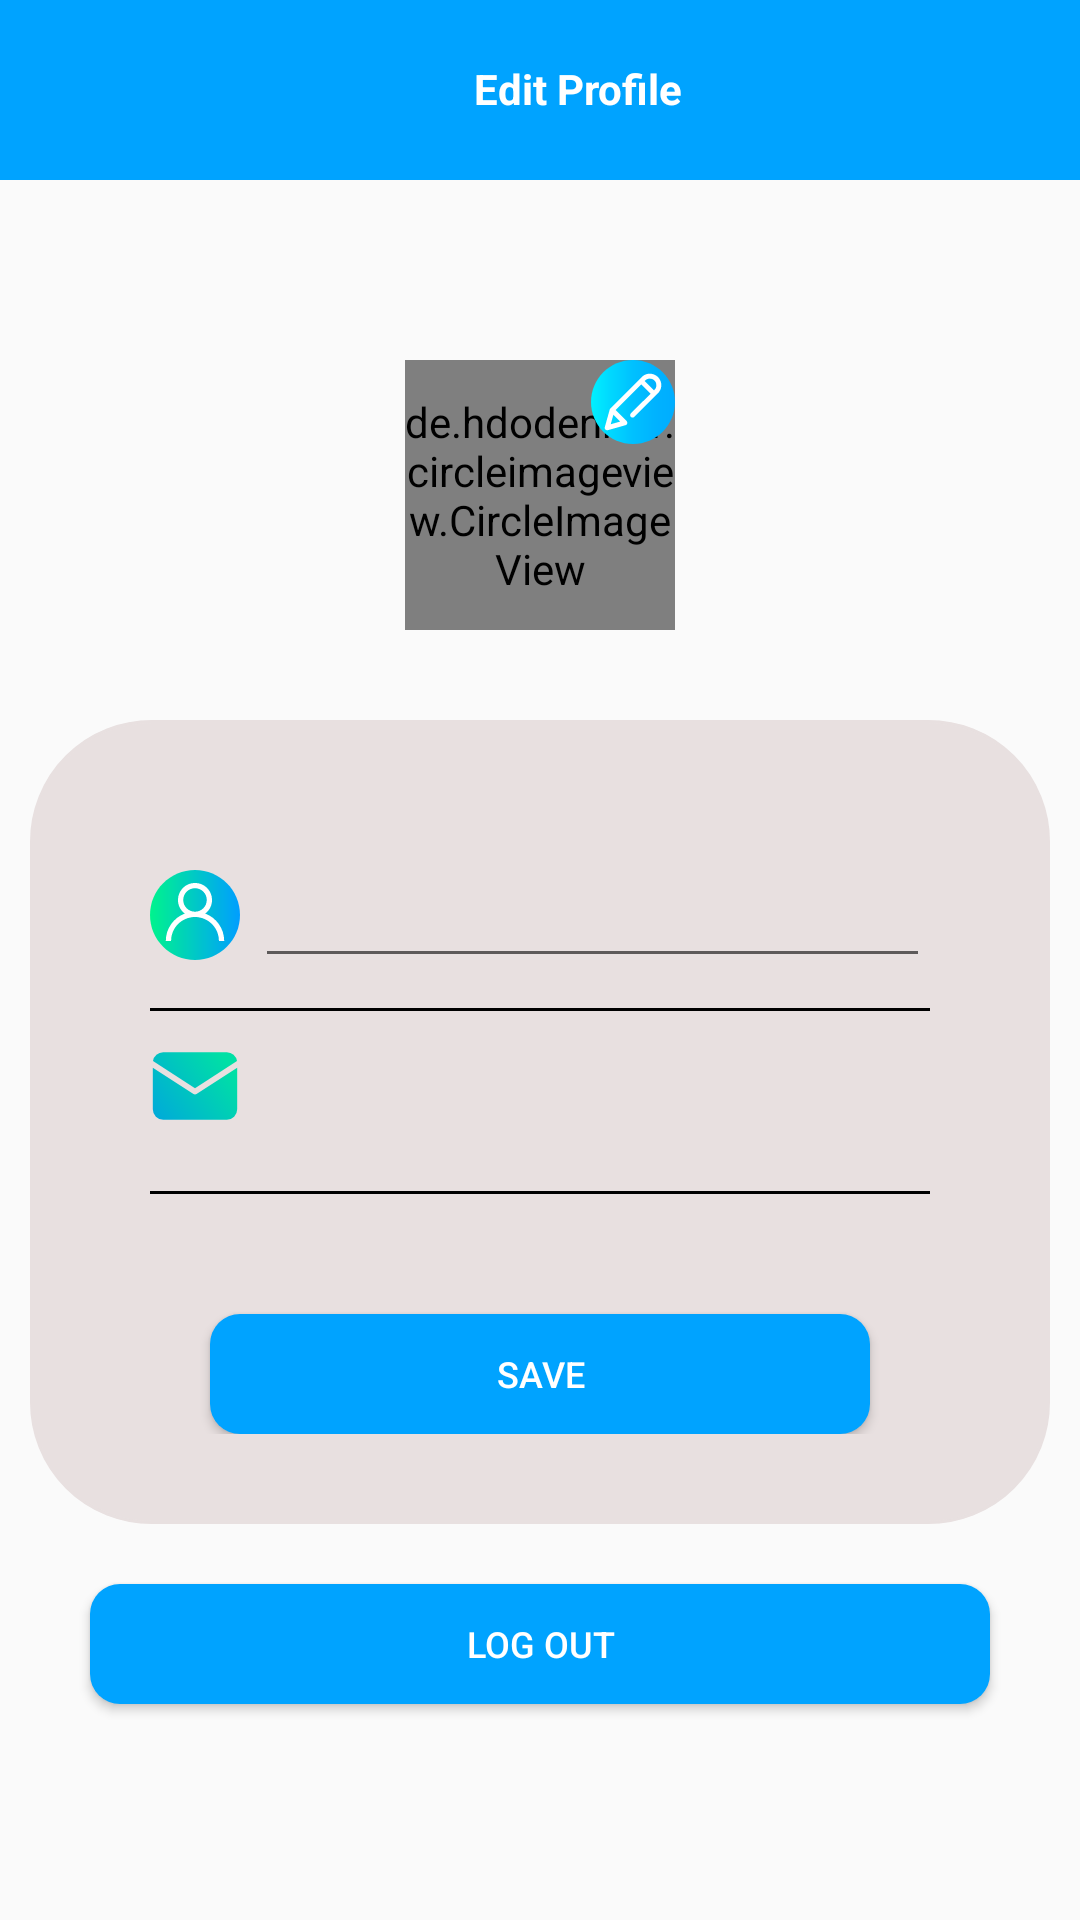

Icon click points for this 1080*1920 phone screenshot, format (x,y):
email: (195,1086)
pencil: (633,402)
user: (195,915)
